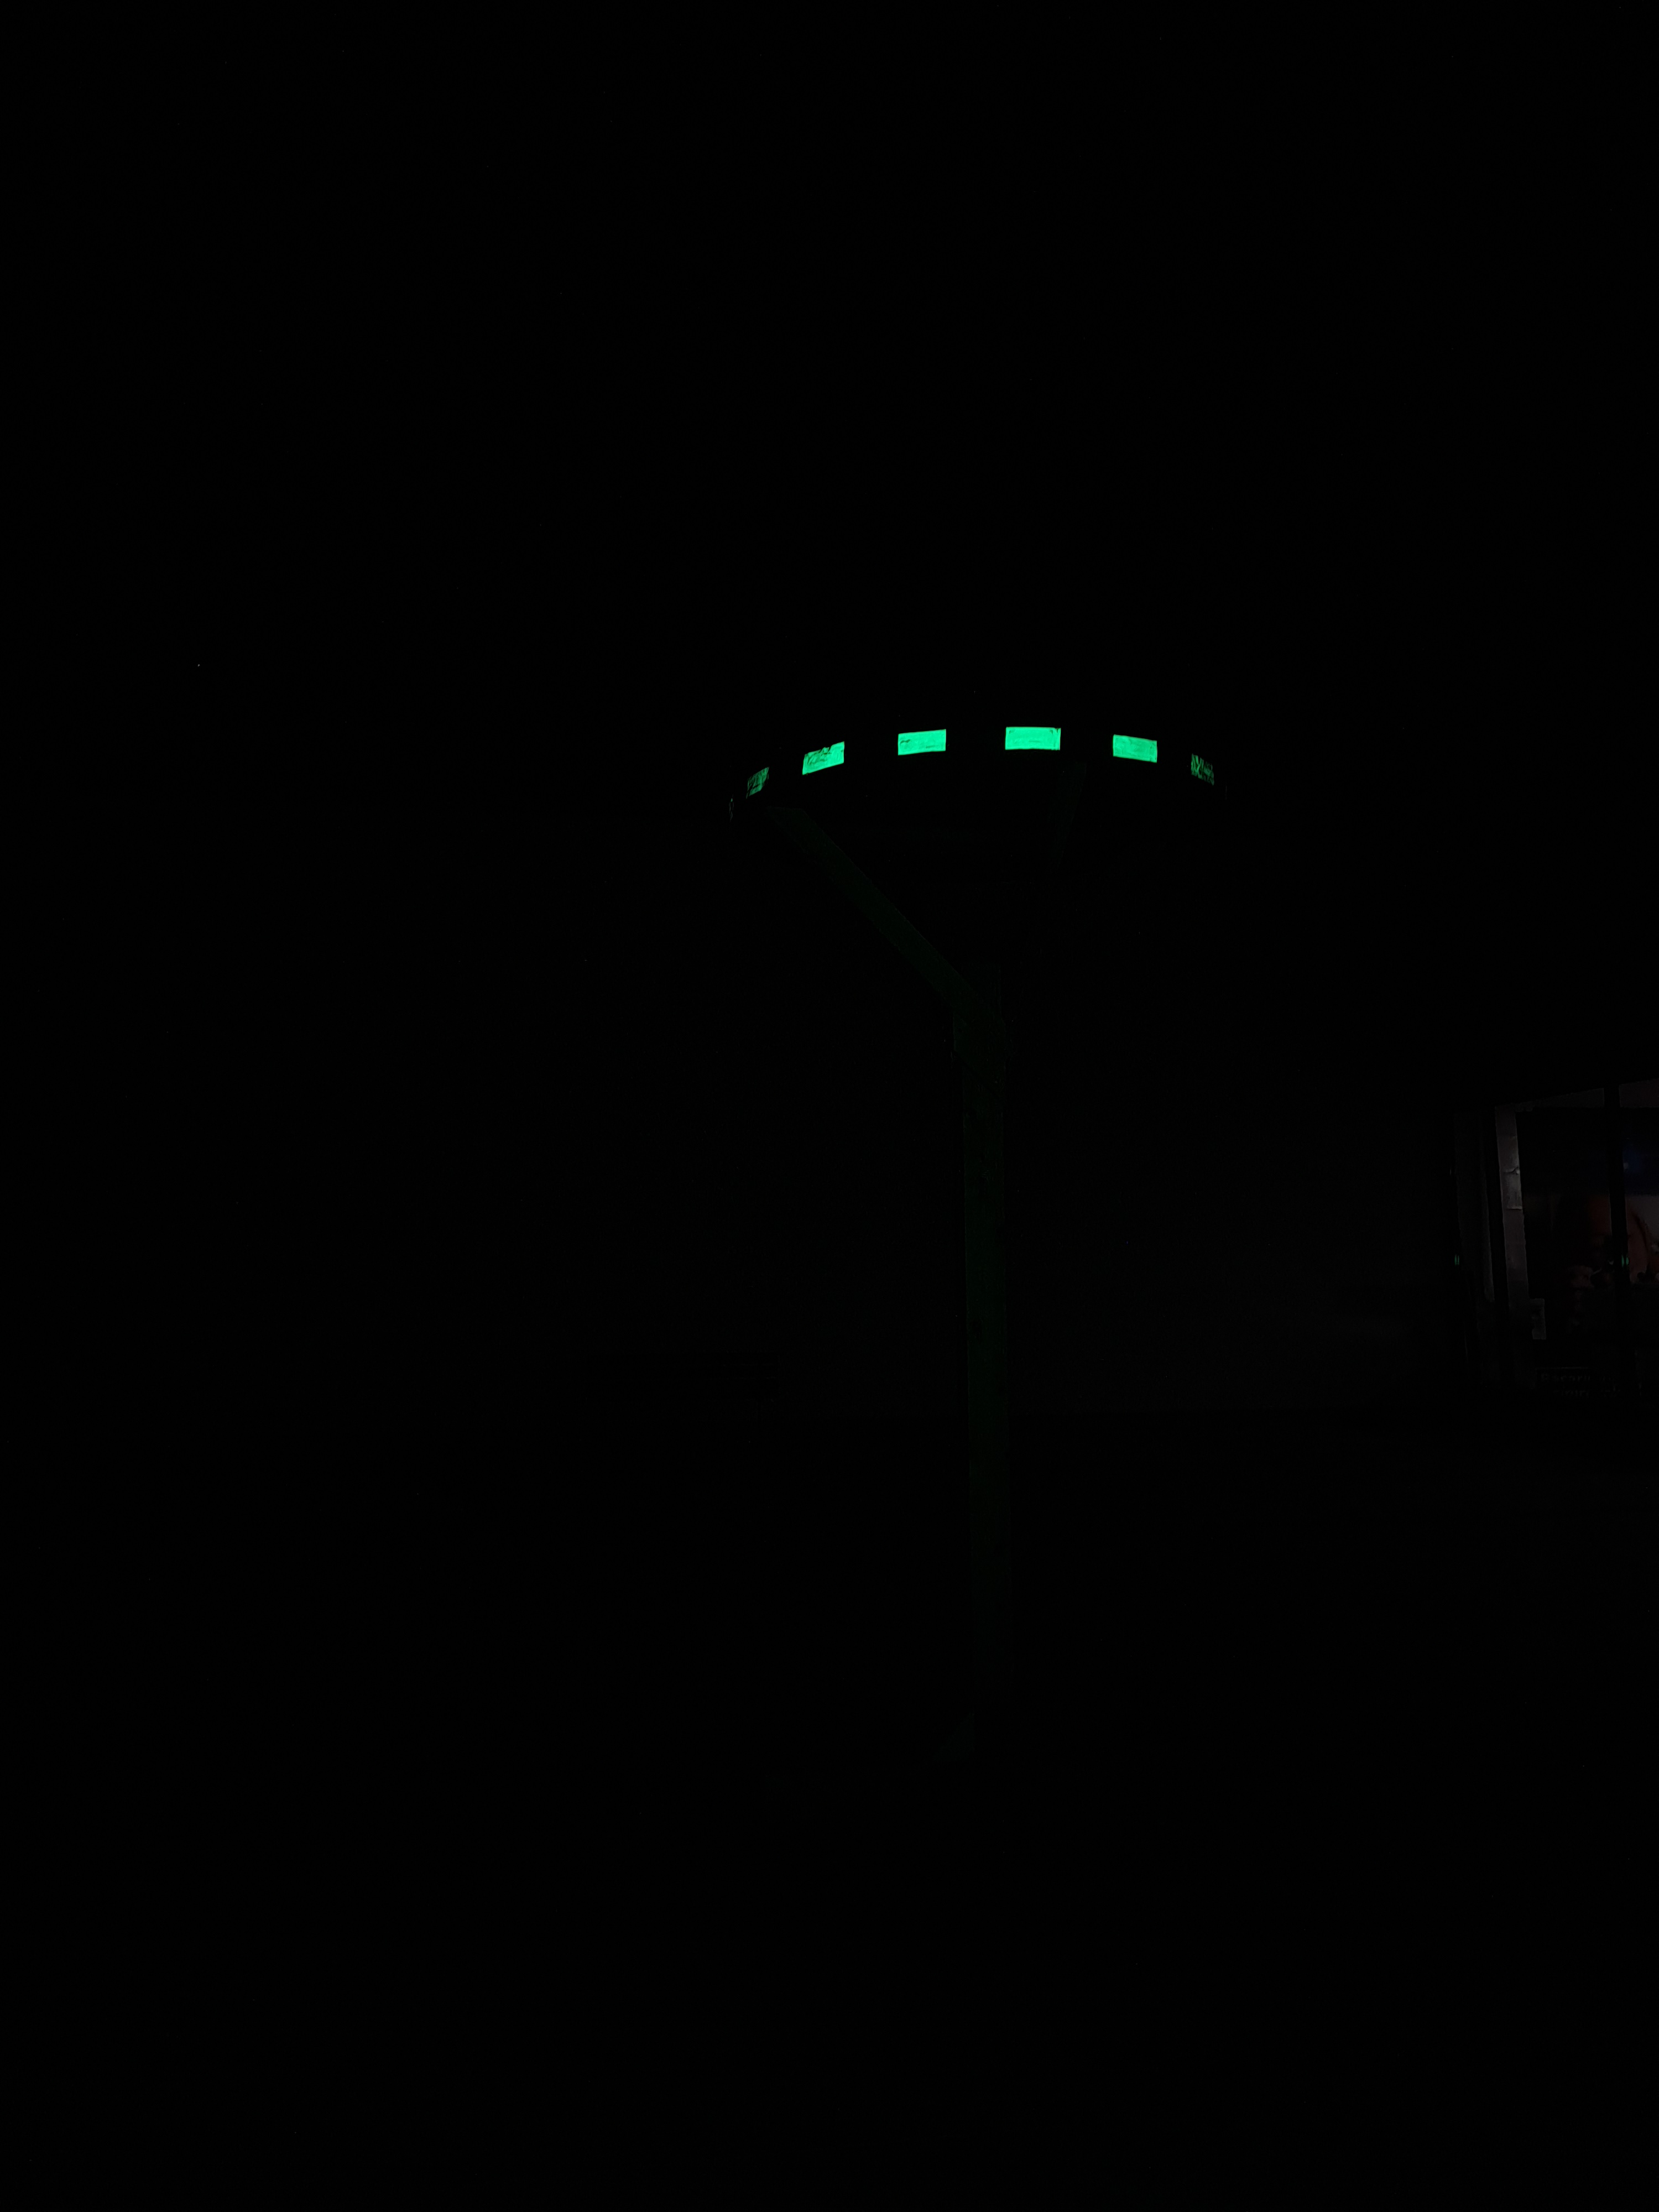hoop: (734, 723, 1227, 796)
